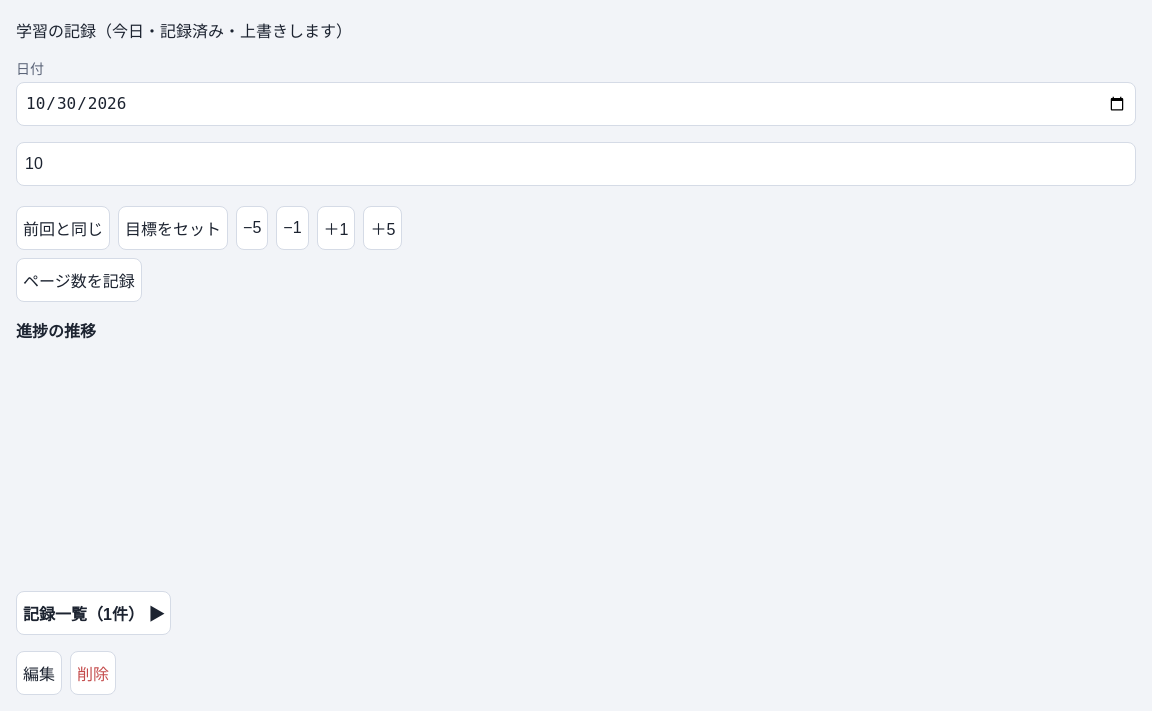
Test: BookDetailScreen › updates the pages of a record from the list
This screenshot has width=1152, height=711.
(page scrolled)
Click the button with test id "record-list-toggle" at [94, 613], box left=16, top=591, right=171, bottom=635
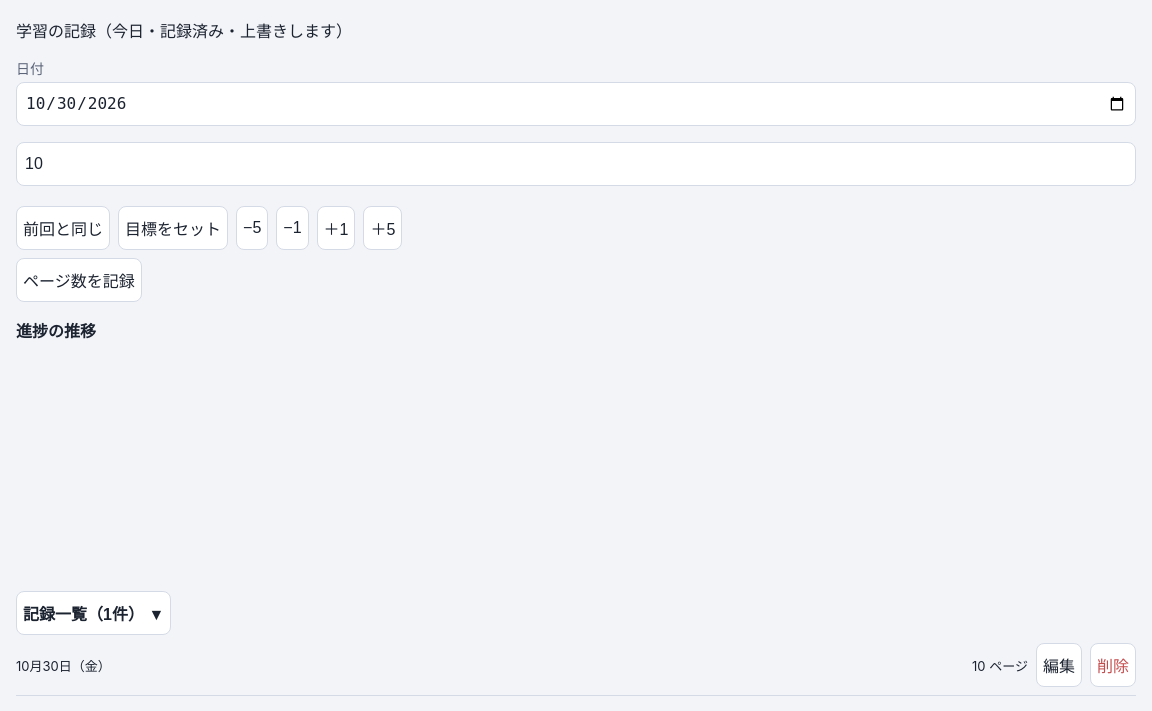
Click the button with test id "record-edit-r1" at [1059, 665], box left=1036, top=643, right=1082, bottom=687
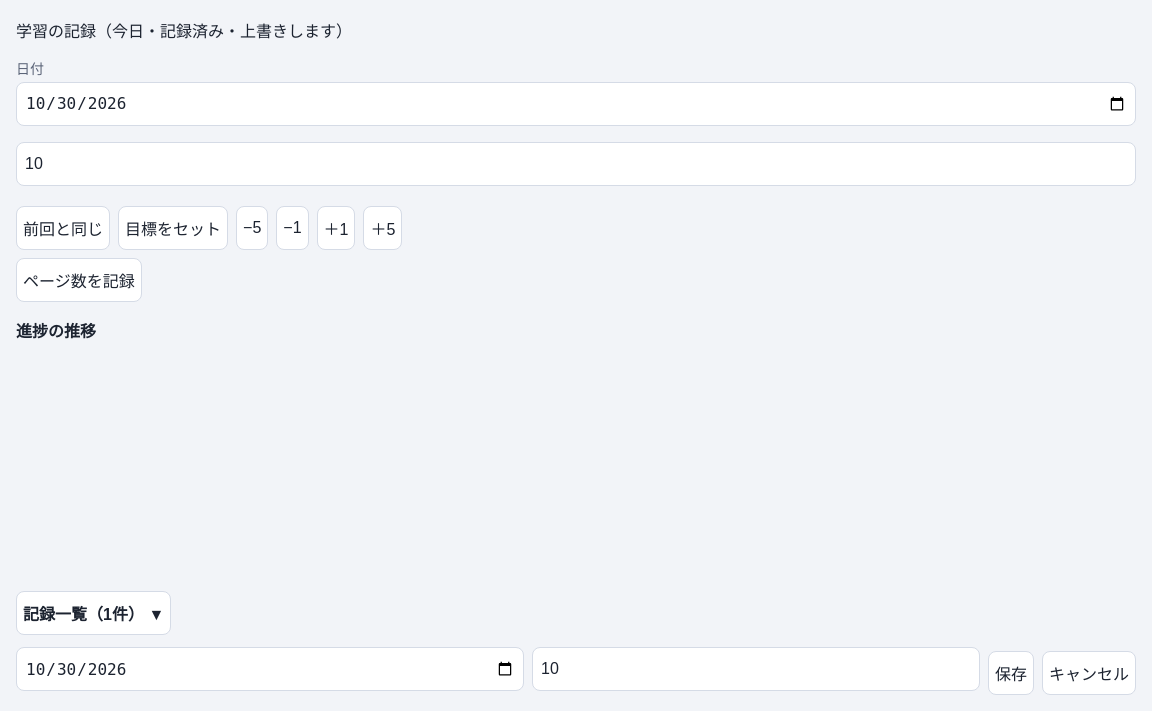
Replace the text in the number field with test id "record-edit-pages-r1" with "25" at [756, 669], box left=532, top=647, right=980, bottom=691
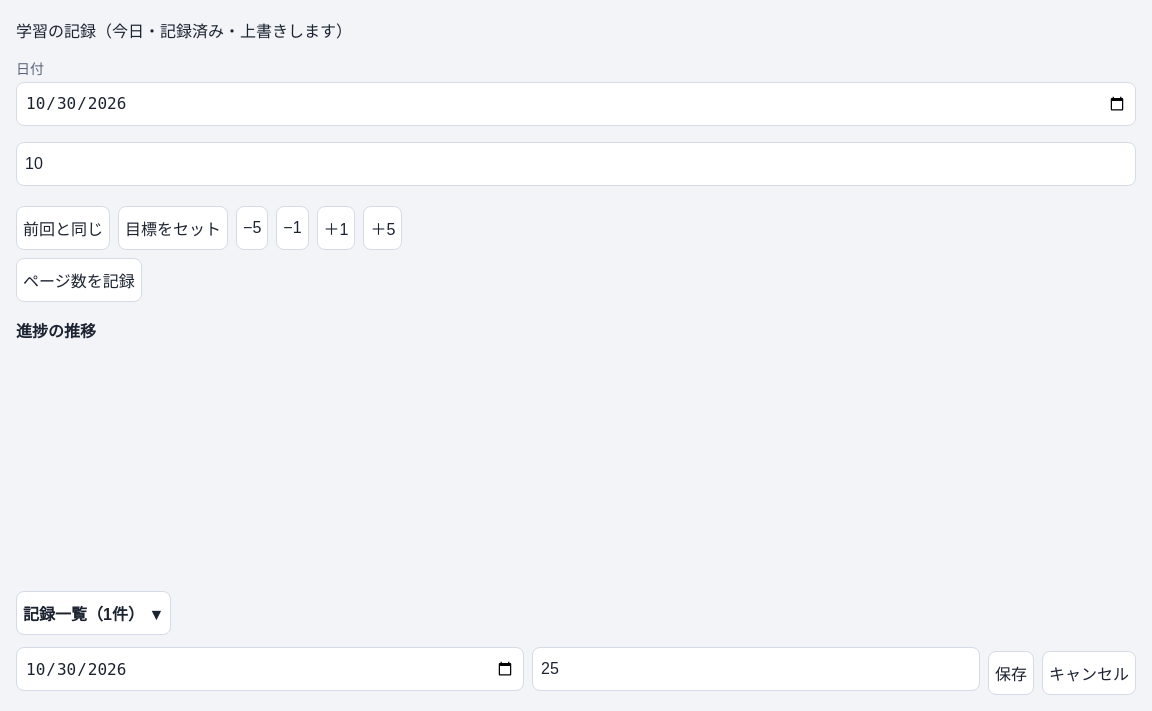
Click the button with test id "record-save-r1" at [1011, 673], box left=988, top=651, right=1034, bottom=695
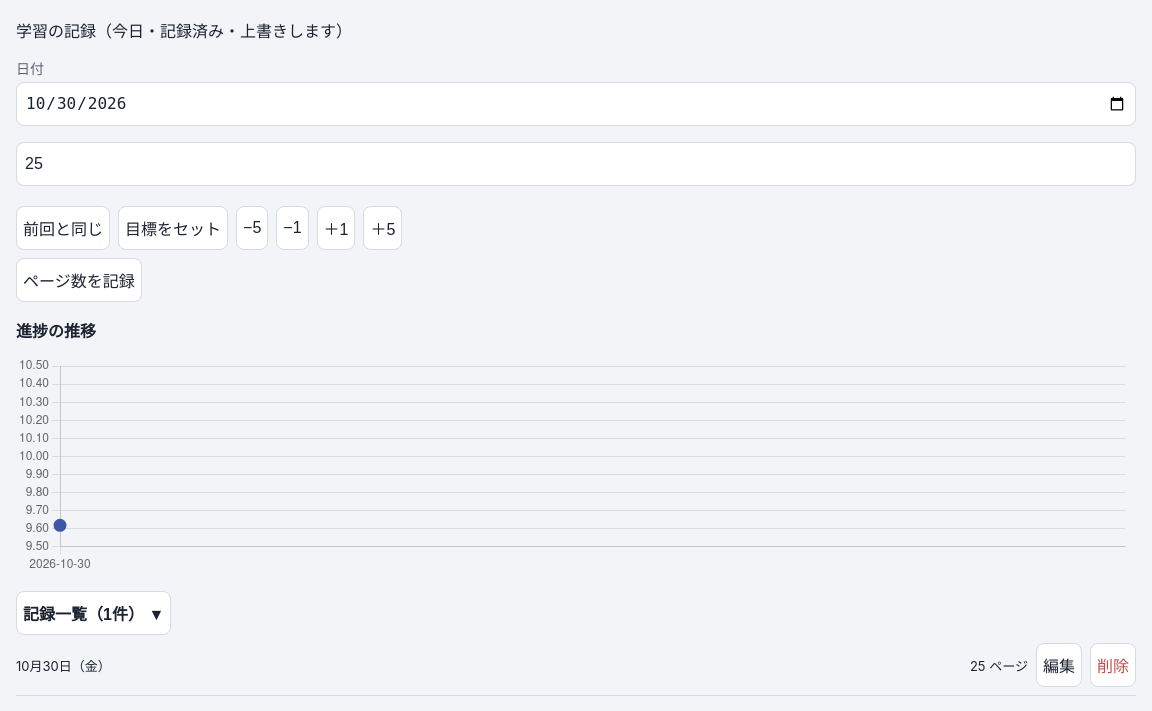
Now the element with test id "record-row-r1" shows "25 ページ", box left=16, top=635, right=1136, bottom=696
